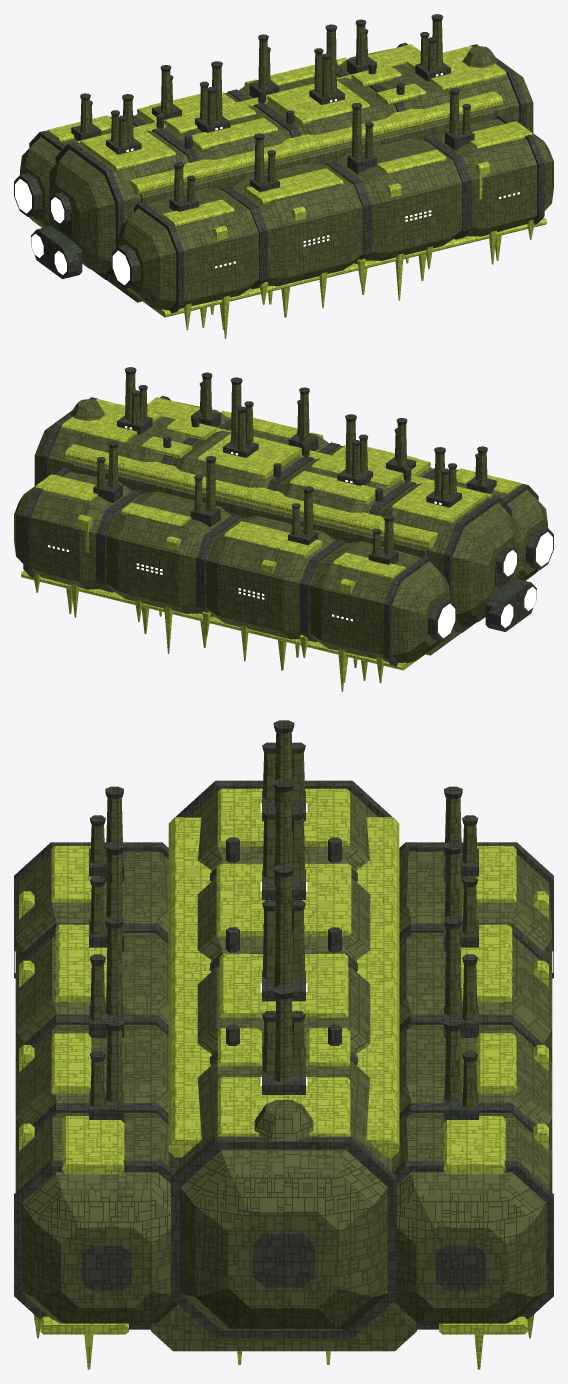
File: green_lod0.glb
3 renders of one model, top to bottom at view 1: azimuth 30°, elevation 25°; view 2: azimuth 150°, elevation 25°; view 3: azimuth 270°, elevation 25°, orthographic. The views are drawn at different scales.
Parts seen in each view (by area): view 1: green_lod0_body, green_lod0_glow; view 2: green_lod0_body, green_lod0_glow; view 3: green_lod0_body.
Boxes of the visible parts, x1,y1,x2,y2 form: green_lod0_body: (14,14,553,338); green_lod0_glow: (15,73,519,285); green_lod0_body: (14,367,553,691); green_lod0_glow: (48,426,552,638); green_lod0_body: (14,720,553,1369).
Bounding box in the file's own units: 22.17 × 11.35 × 12.18.
2 materials, 1 textured.
